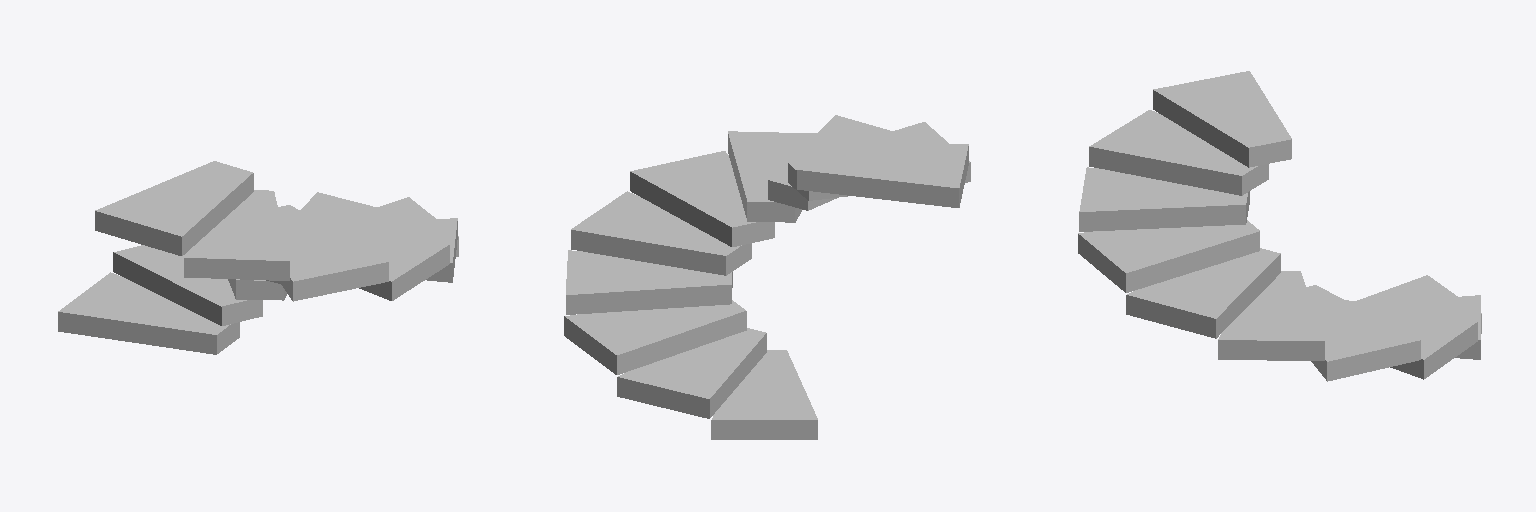
Rendered from lighthouseStairs_02.obj.
3 renders of one model, left to right at view 1: azimuth 30°, elevation 25°; view 2: azimuth 150°, elevation 25°; view 3: azimuth 270°, elevation 25°, orthographic.
Visible parts, largest first — view 1: Cube.001; view 2: Cube.001; view 3: Cube.001.
Part boxes in pixels (x1,y1,x2,y2): Cube.001: (58,161,458,354); Cube.001: (564,115,970,439); Cube.001: (1078,71,1481,381).
Size of the model in its own units: 6.68 by 3.6 by 6.63.